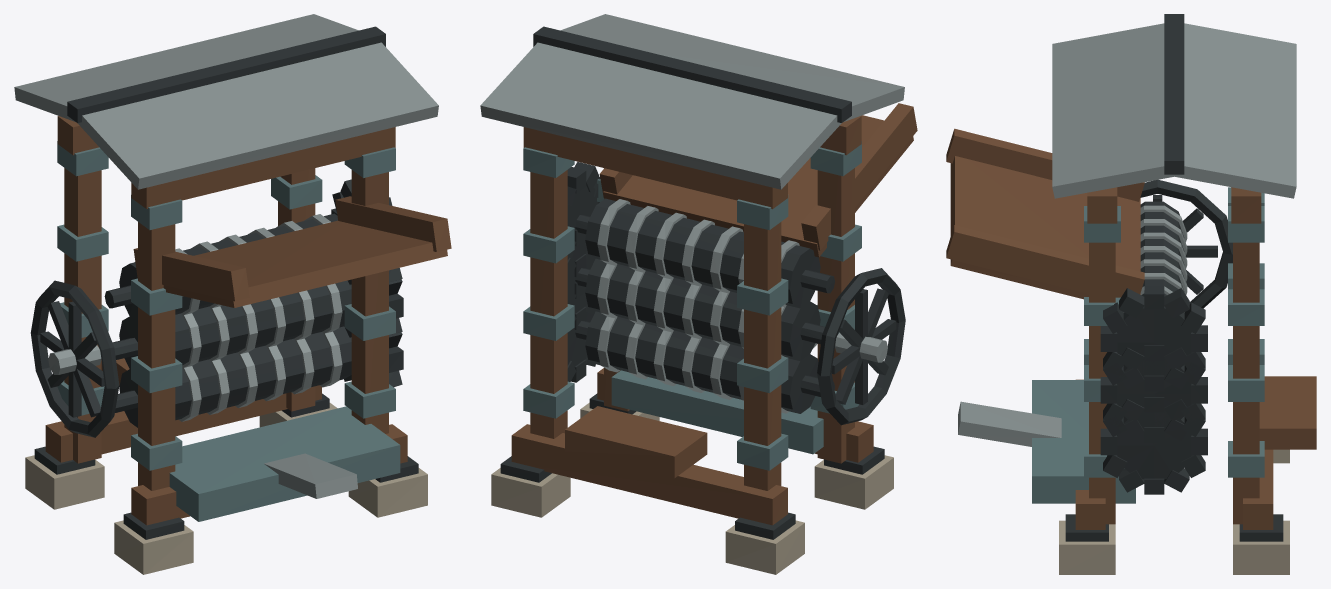
The model's file is Sugar-Mill.glb.
3 views of the same model, side by side, from view 1: azimuth 30°, elevation 25°; view 2: azimuth 150°, elevation 25°; view 3: azimuth 270°, elevation 25° (orthographic). The views are drawn at different scales.
Parts seen in each view (by area): view 1: sugar-mill-static-sugar-mill-pale-galvanized-mat, sugar-mill-static-sugar-mill-warm-timber-mat, sugar-mill-static-sugar-mill-dark-iron-mat, sugar-mill-static-sugar-mill-muted-teal-fixture-mat, sugar-mill-static-sugar-mill-warm-stone-foot-mat; view 2: sugar-mill-static-sugar-mill-warm-timber-mat, sugar-mill-static-sugar-mill-pale-galvanized-mat, sugar-mill-static-sugar-mill-dark-iron-mat, sugar-mill-static-sugar-mill-muted-teal-fixture-mat, sugar-mill-static-sugar-mill-warm-stone-foot-mat; view 3: sugar-mill-static-sugar-mill-pale-galvanized-mat, sugar-mill-static-sugar-mill-warm-timber-mat, sugar-mill-static-sugar-mill-dark-iron-mat, sugar-mill-static-sugar-mill-muted-teal-fixture-mat, sugar-mill-static-sugar-mill-warm-stone-foot-mat.
Part boxes in pixels (x1,y1,x2,y2): sugar-mill-static-sugar-mill-pale-galvanized-mat: (14,14,438,498); sugar-mill-static-sugar-mill-warm-timber-mat: (45,116,451,525); sugar-mill-static-sugar-mill-dark-iron-mat: (30,26,418,539); sugar-mill-static-sugar-mill-muted-teal-fixture-mat: (57,141,400,521); sugar-mill-static-sugar-mill-warm-stone-foot-mat: (25,403,427,574); sugar-mill-static-sugar-mill-warm-timber-mat: (511,103,917,525); sugar-mill-static-sugar-mill-pale-galvanized-mat: (480,14,904,413); sugar-mill-static-sugar-mill-dark-iron-mat: (500,26,905,539); sugar-mill-static-sugar-mill-muted-teal-fixture-mat: (523,141,861,470); sugar-mill-static-sugar-mill-warm-stone-foot-mat: (491,402,893,574); sugar-mill-static-sugar-mill-pale-galvanized-mat: (958,23,1296,446); sugar-mill-static-sugar-mill-warm-timber-mat: (946,128,1316,529); sugar-mill-static-sugar-mill-dark-iron-mat: (1065,14,1283,541); sugar-mill-static-sugar-mill-muted-teal-fixture-mat: (1032,187,1264,503); sugar-mill-static-sugar-mill-warm-stone-foot-mat: (1059,449,1289,574).
Bounding box in the file's own units: 2.26 × 2.77 × 2.21.
